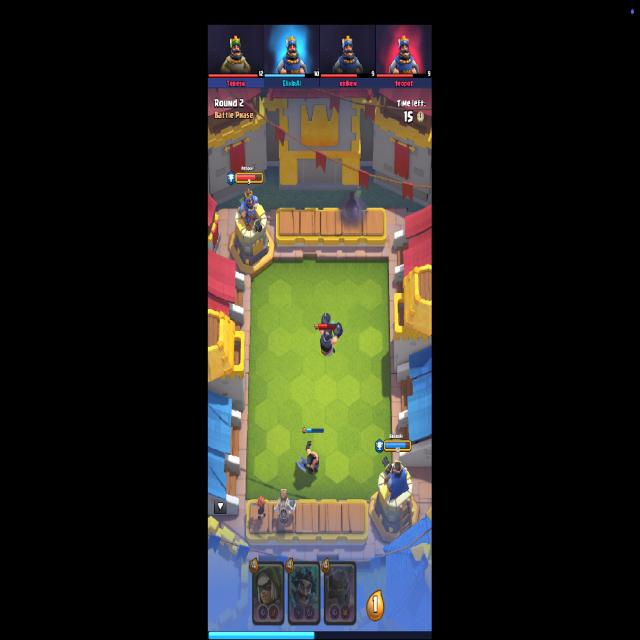card_bandit: (252, 561, 286, 627)
card_e_wiz: (288, 559, 320, 626)
card_mega_knight: (324, 561, 357, 626)
executioner: (299, 440, 320, 477)
giant_skeleton: (274, 488, 296, 522)
mega_knight: (318, 313, 344, 357)
valkyrie: (250, 496, 268, 520)
